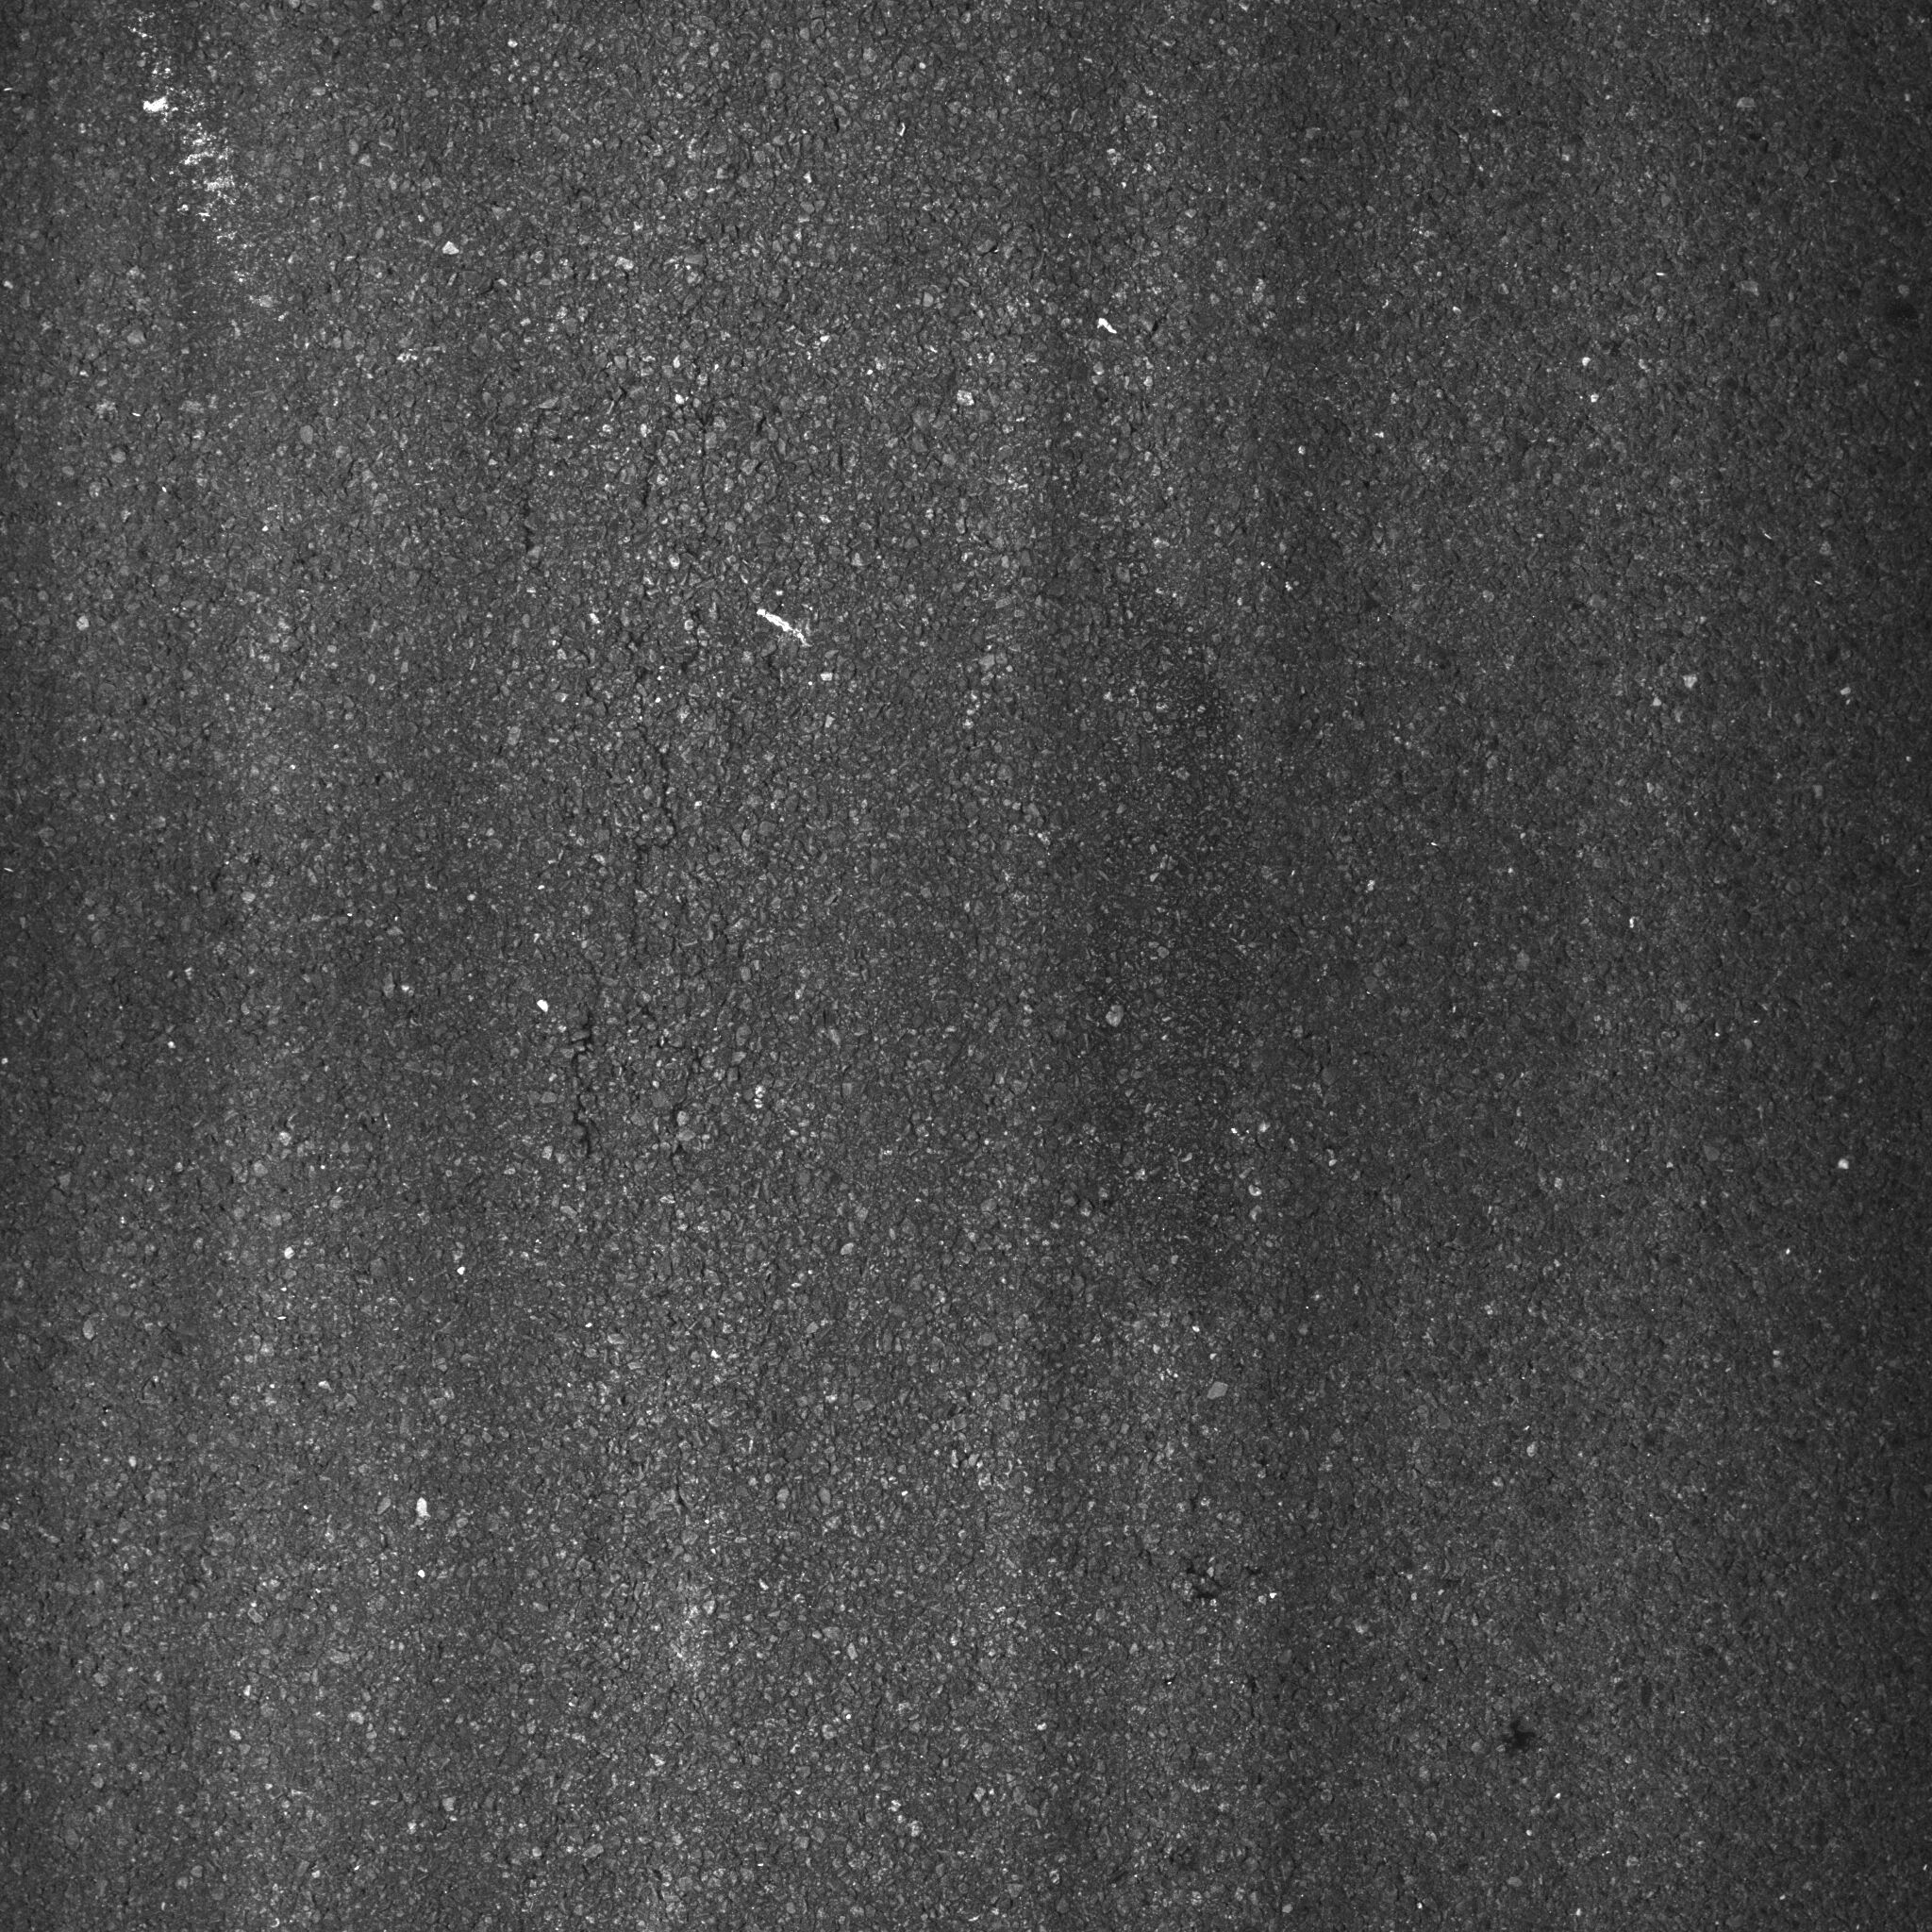alligator: (462, 327, 844, 1219)
